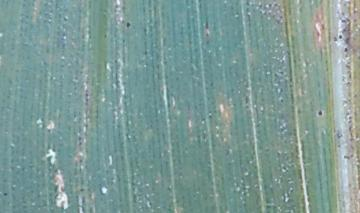tarspot: (342, 153, 351, 161), (316, 109, 324, 117), (124, 21, 133, 28), (331, 35, 338, 42), (2, 191, 10, 197), (278, 97, 284, 104), (338, 33, 343, 41), (343, 45, 348, 52)
